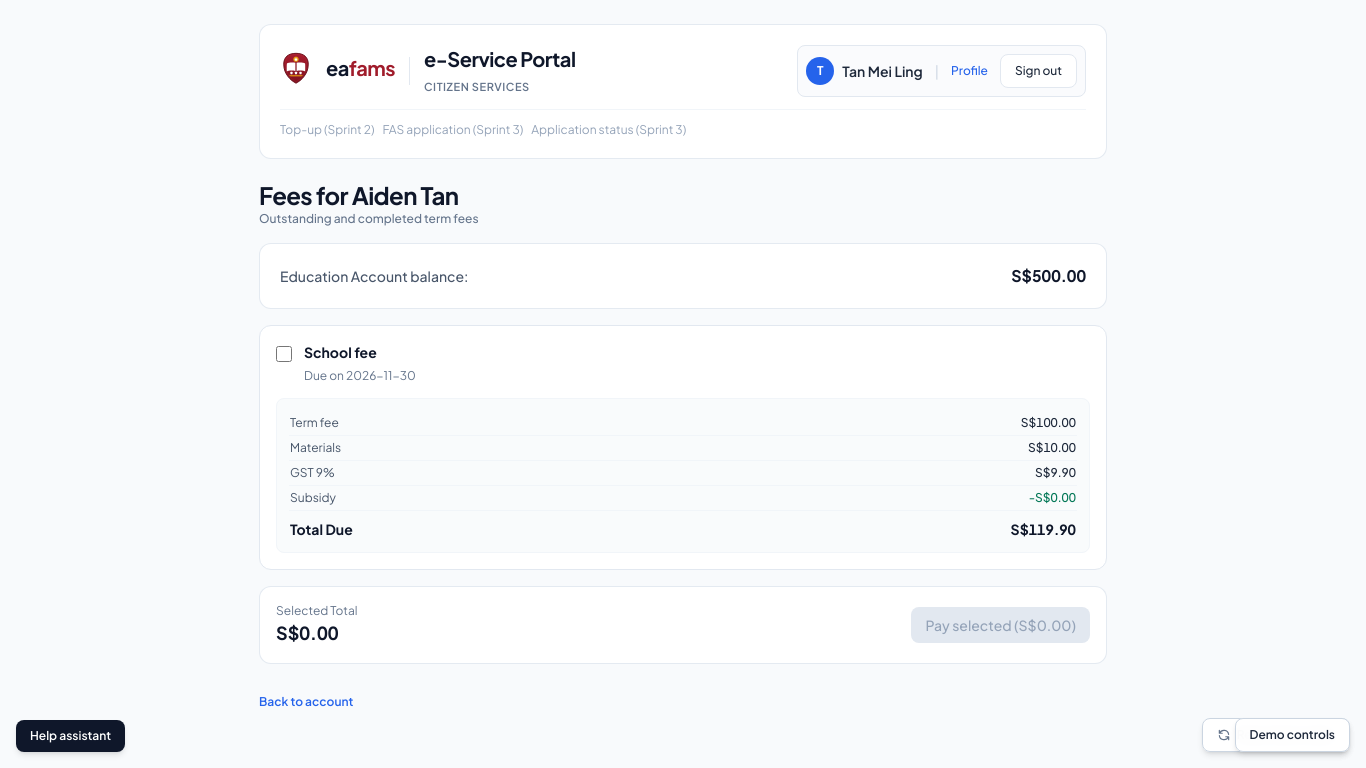
full EA payment: select, choose EA, review, confirm, receipt
Click the checkbox named "select school fee".
click(284, 354)  # box [276, 346, 292, 362]
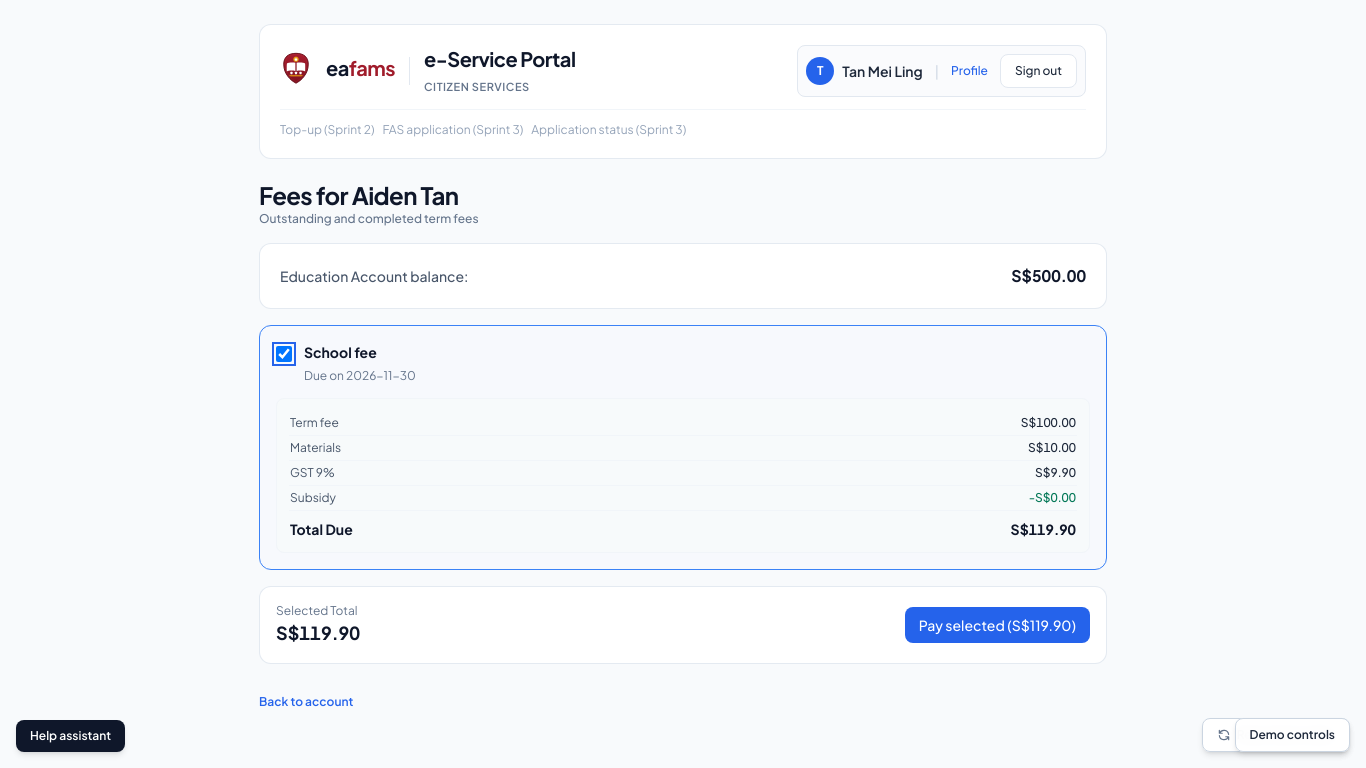
Click the button "Pay selected (S$119.90)".
click(997, 625)  # box [905, 607, 1090, 643]
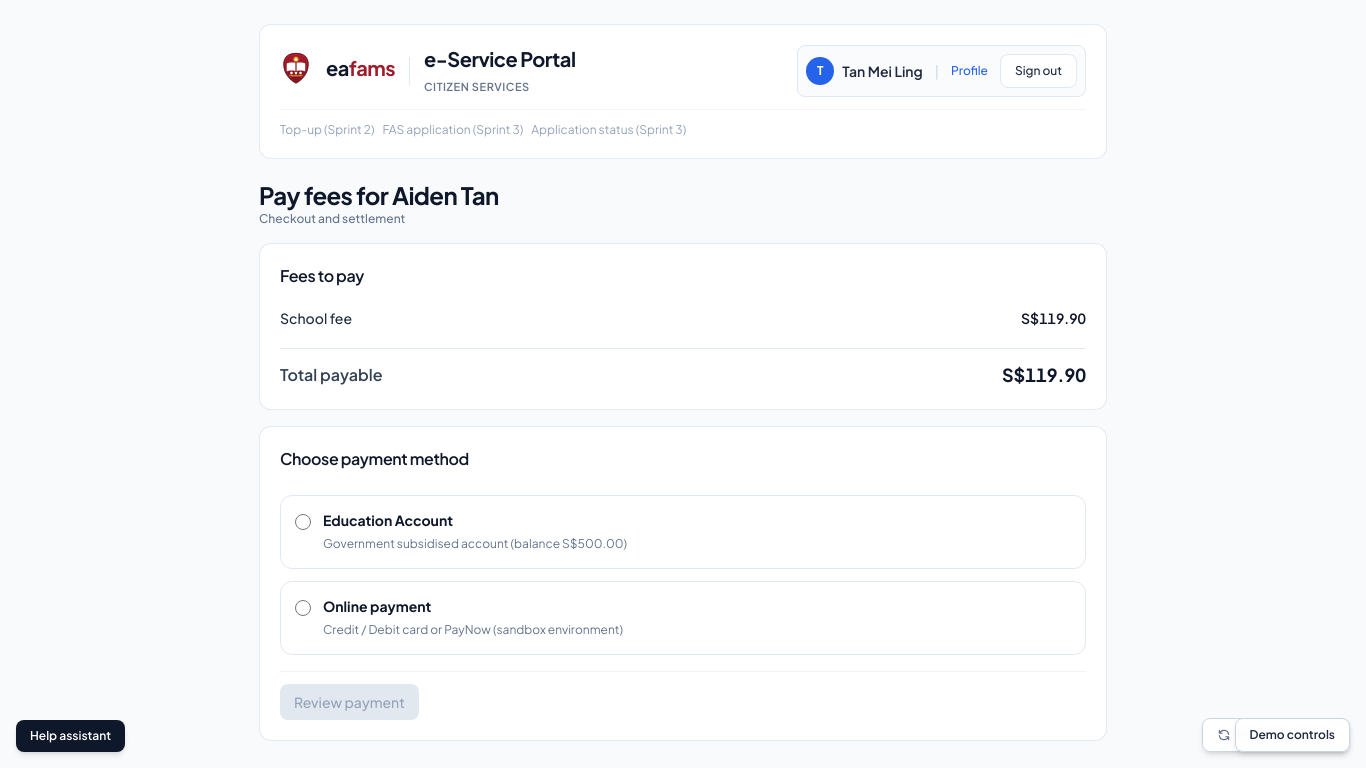
Click the radio button labelled "Education Account".
click(303, 522)  # box [295, 514, 311, 530]
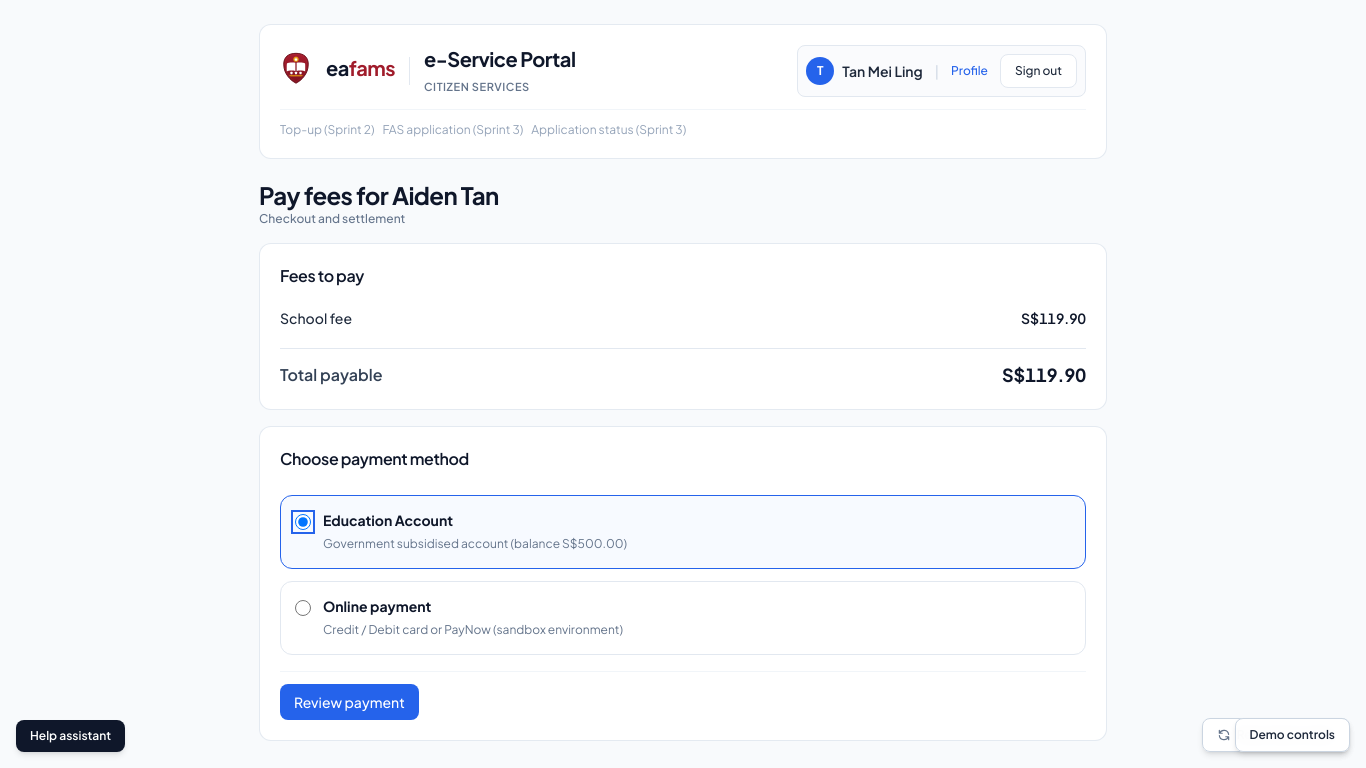
Click the button "Review payment".
click(349, 702)  # box [280, 684, 419, 720]
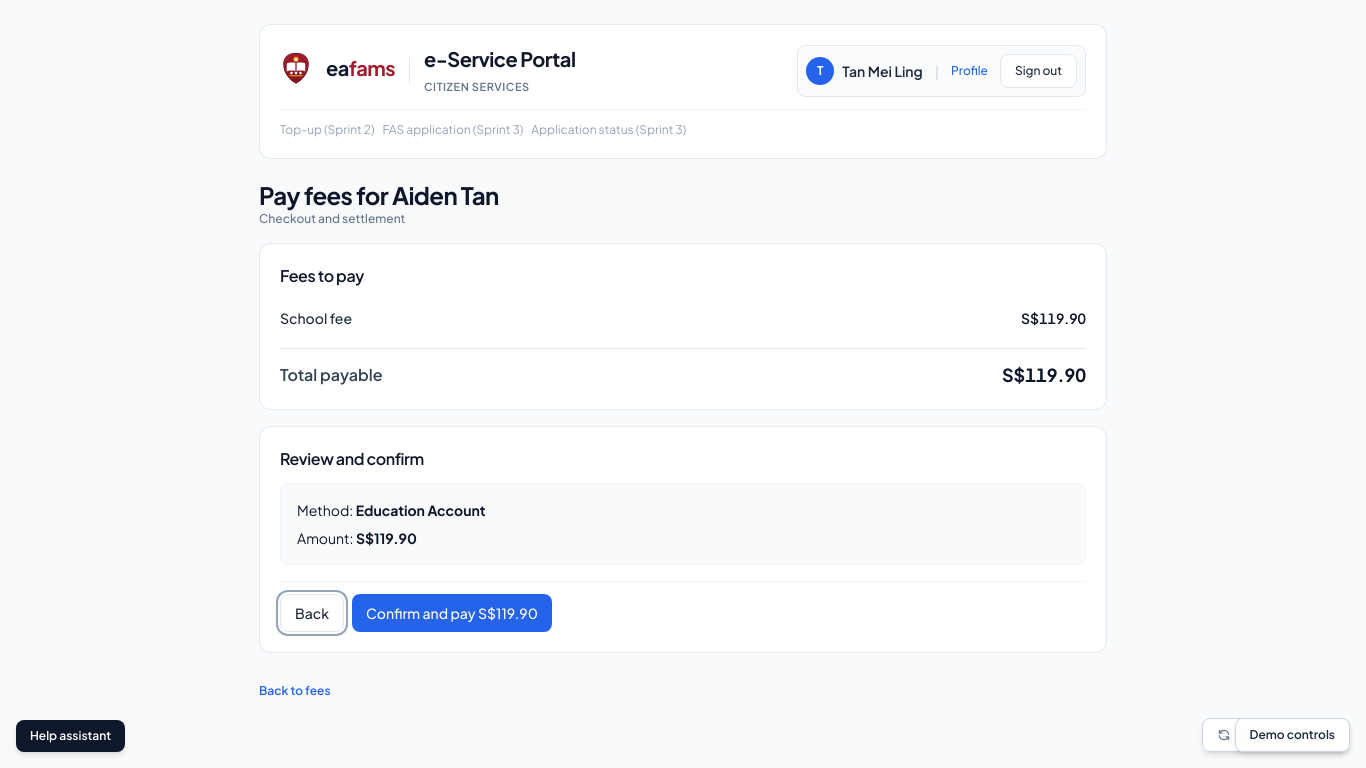
Check: the text "Amount: S$119.90" is shown, box [297, 529, 417, 547]
Click the button "Confirm and pay S$119.90".
click(452, 613)  # box [352, 594, 552, 632]
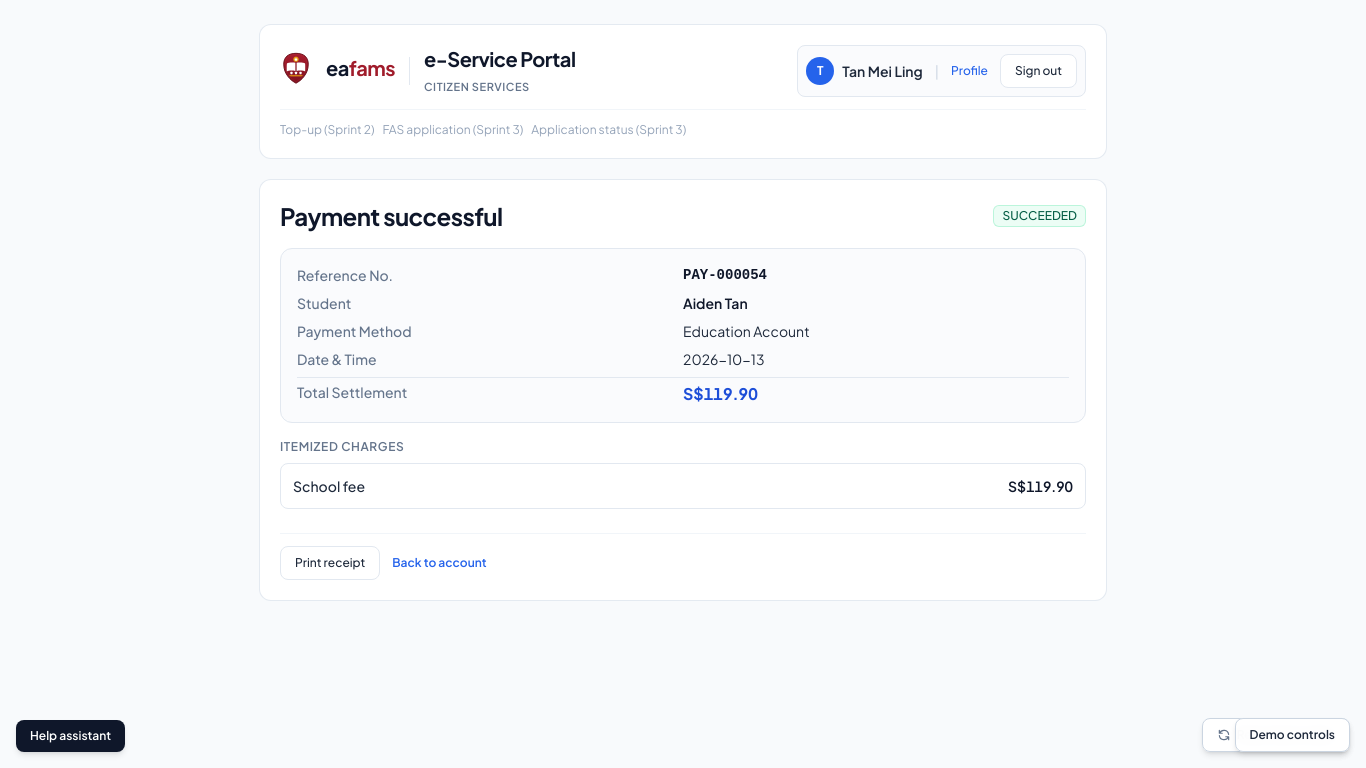
Check: the heading "Payment successful" is shown, box [280, 200, 502, 232]
Check: the text "PAY-000054" is shown, box [683, 267, 767, 283]
